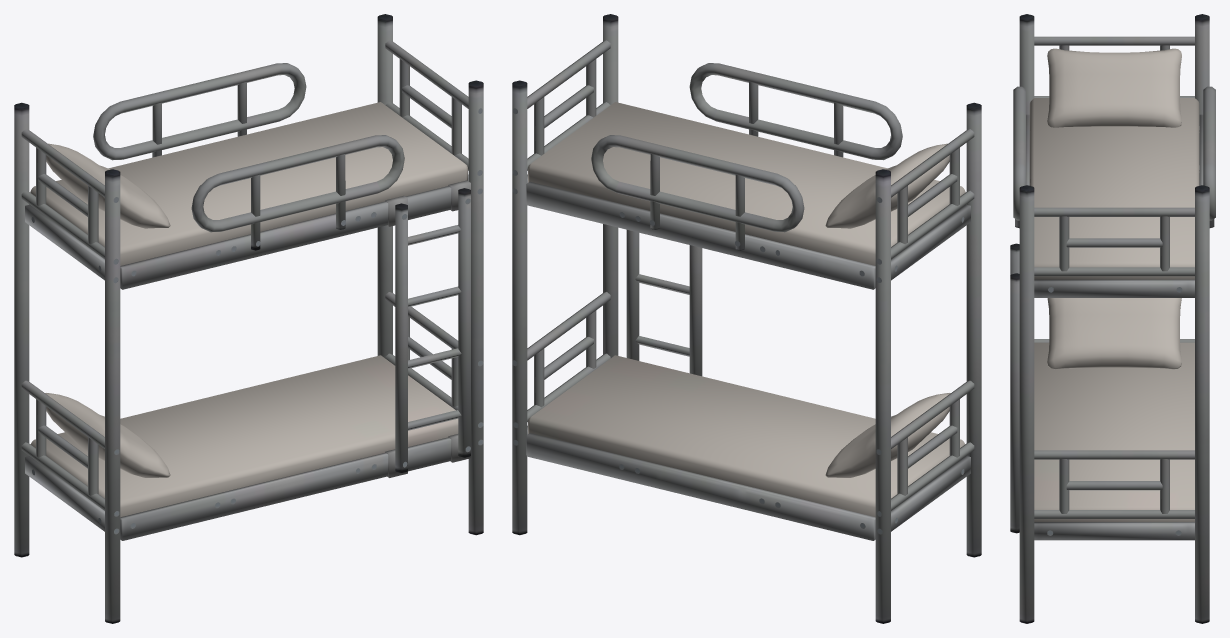
3 views of the same model, side by side, from view 1: azimuth 30°, elevation 25°; view 2: azimuth 150°, elevation 25°; view 3: azimuth 270°, elevation 25° (orthographic). The views are drawn at different scales.
Size of the model in its own units: 19.27 by 21.83 by 9.39.
Materials: 2 (2 with a texture image).
